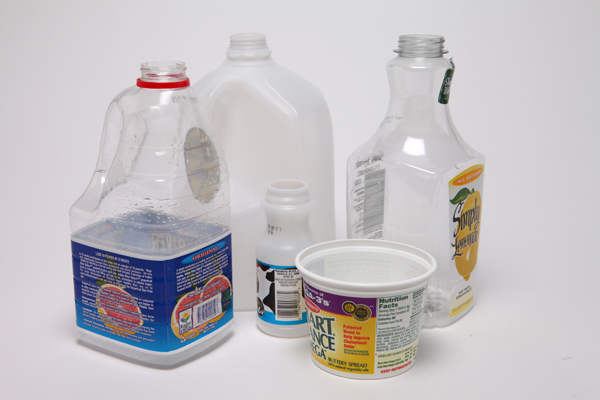Rec_Plastic: (58, 49, 236, 366), (198, 28, 343, 319), (353, 31, 488, 339), (291, 226, 432, 384), (245, 172, 331, 347)
